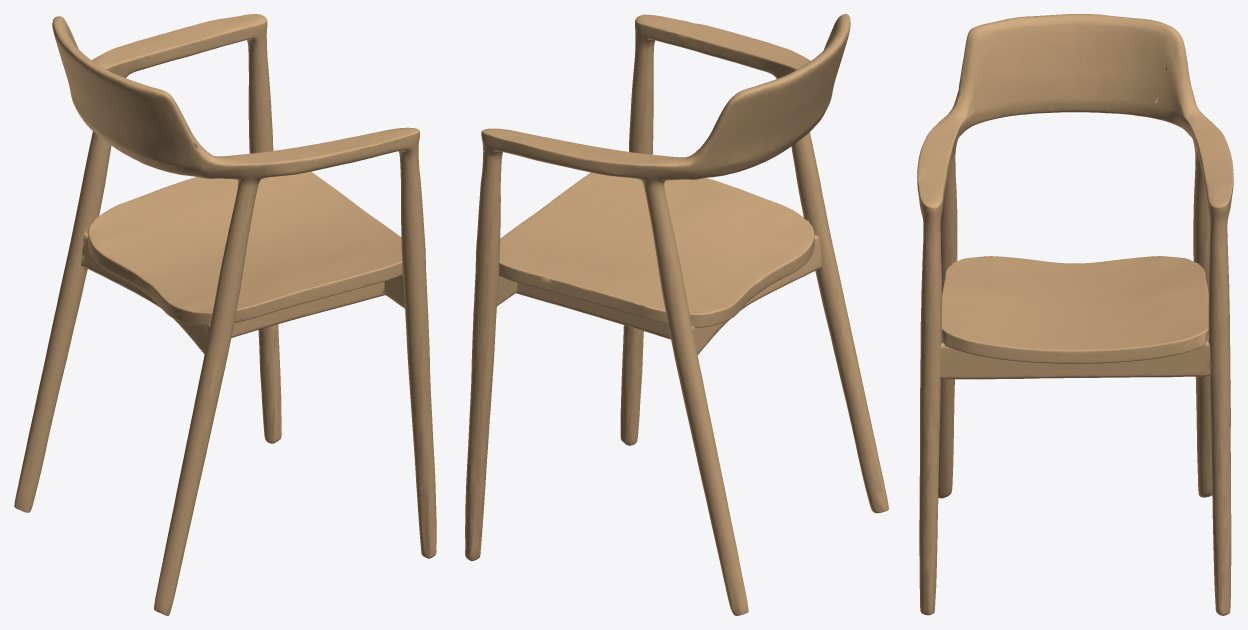
The picture shows the model from 3 angles, left to right: view 1: azimuth 30°, elevation 25°; view 2: azimuth 150°, elevation 25°; view 3: azimuth 270°, elevation 25°; orthographic projection. The views are drawn at different scales.
Visible parts, largest first — view 1: tripo_node_2a8eec67-ddfb-43e6-8287-cbd9ca7710ee; view 2: tripo_node_2a8eec67-ddfb-43e6-8287-cbd9ca7710ee; view 3: tripo_node_2a8eec67-ddfb-43e6-8287-cbd9ca7710ee.
Part boxes in pixels (x1,y1,x2,y2): tripo_node_2a8eec67-ddfb-43e6-8287-cbd9ca7710ee: (14, 14, 436, 615); tripo_node_2a8eec67-ddfb-43e6-8287-cbd9ca7710ee: (465, 14, 888, 615); tripo_node_2a8eec67-ddfb-43e6-8287-cbd9ca7710ee: (917, 14, 1233, 615).
Bounding box in the file's own units: 0.47 × 0.8 × 0.48.
